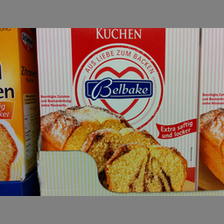cake: (36, 28, 200, 192)
